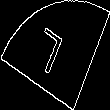L_SW: (36, 26, 74, 84)
